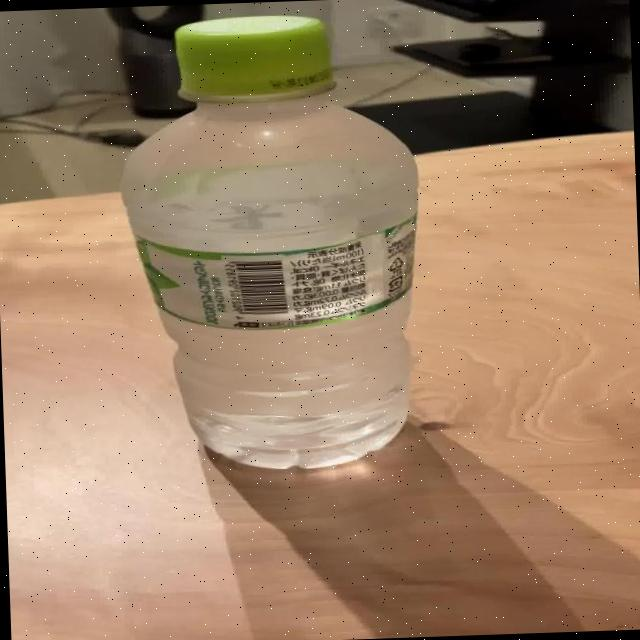bottle: (110, 8, 434, 478)
cap: (172, 8, 332, 118)
label: (116, 218, 438, 336)
